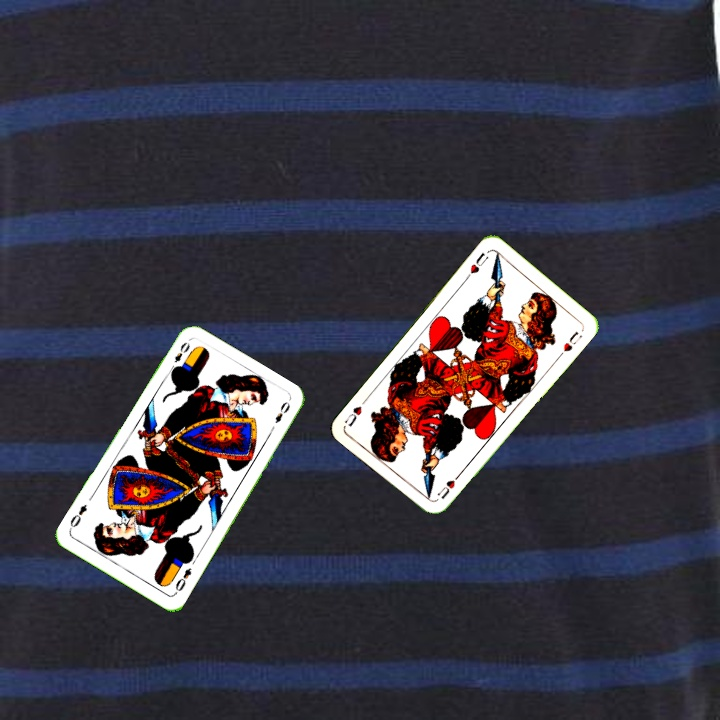EO: (165, 338, 193, 374), (171, 564, 194, 597)
HU: (462, 248, 491, 282), (433, 476, 458, 502)
